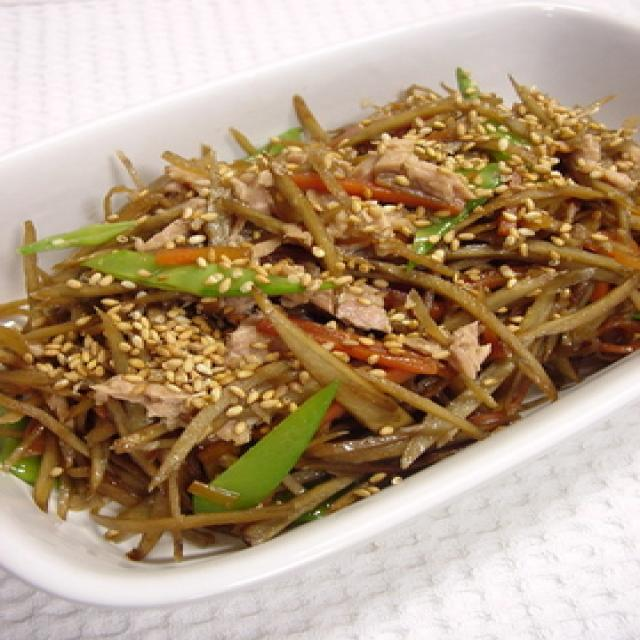蔬菜料理: (5, 24, 638, 577)
